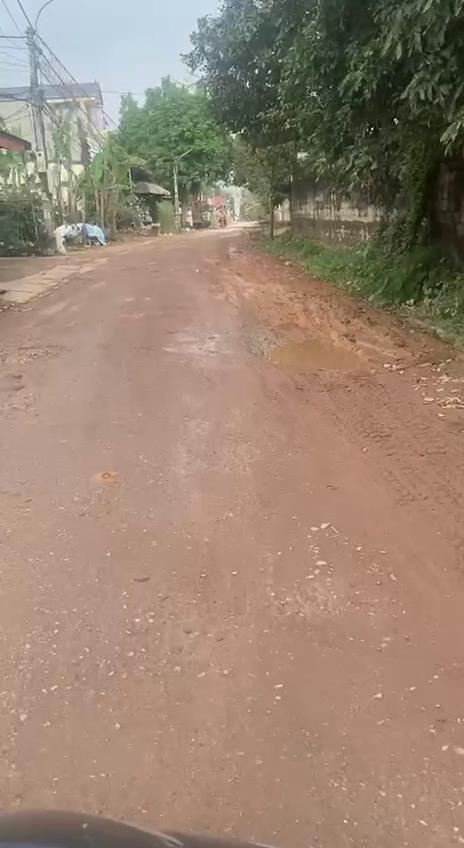pothole: (249, 330, 369, 376), (0, 335, 74, 366)
